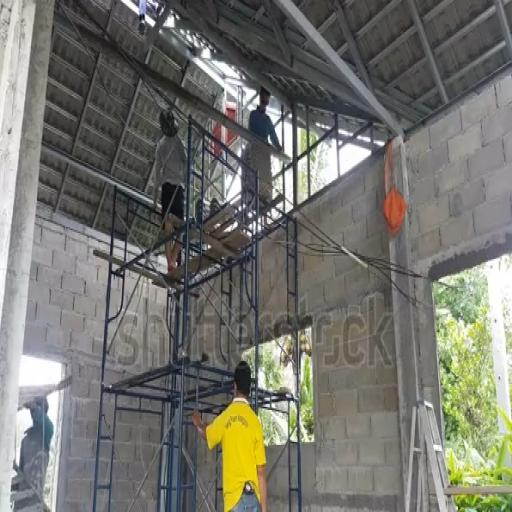head and helmet: (234, 362, 251, 397), (30, 397, 48, 425), (159, 110, 177, 137), (260, 87, 270, 111)
